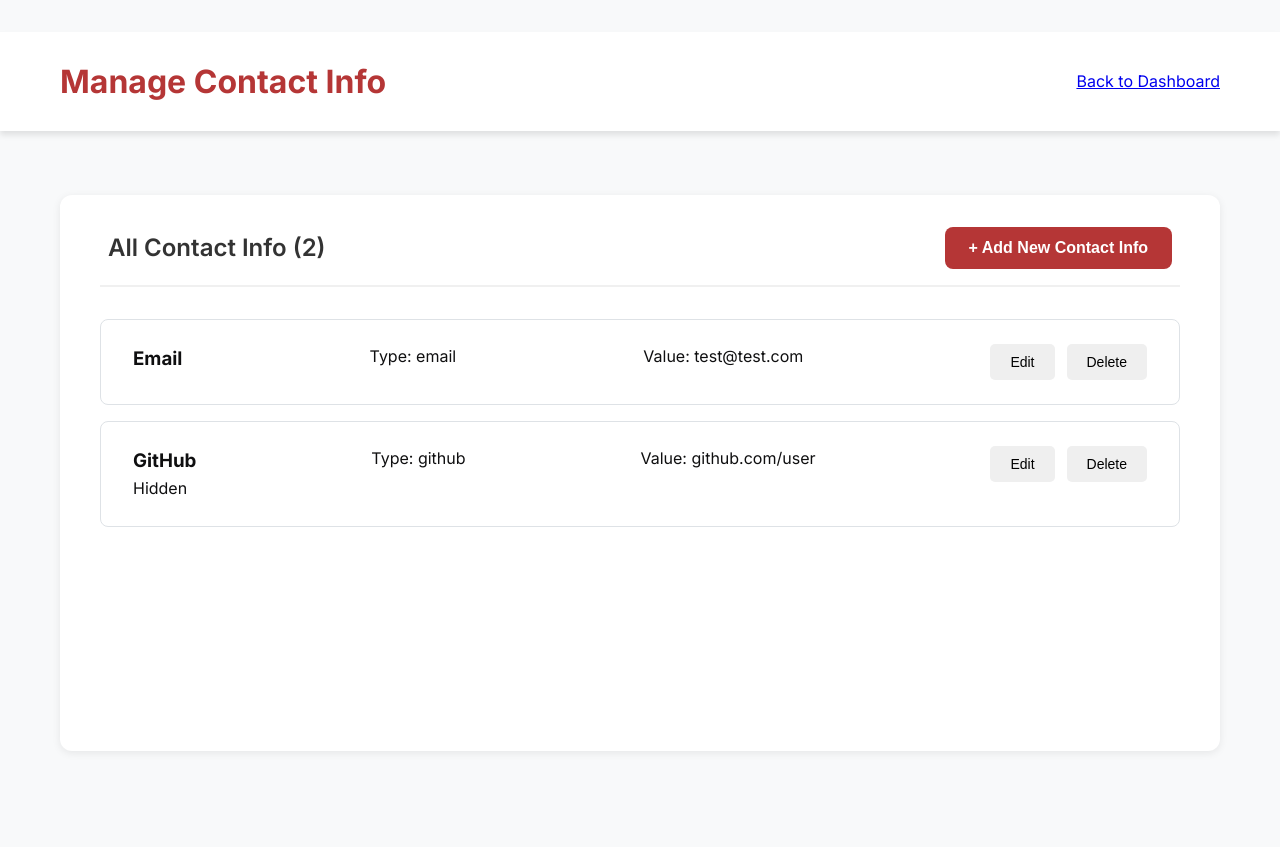
Test: AdminContactInfo › handles error
Click the button "+ Add New Contact Info": {"x": 1058, "y": 248} [945,227,1172,269]
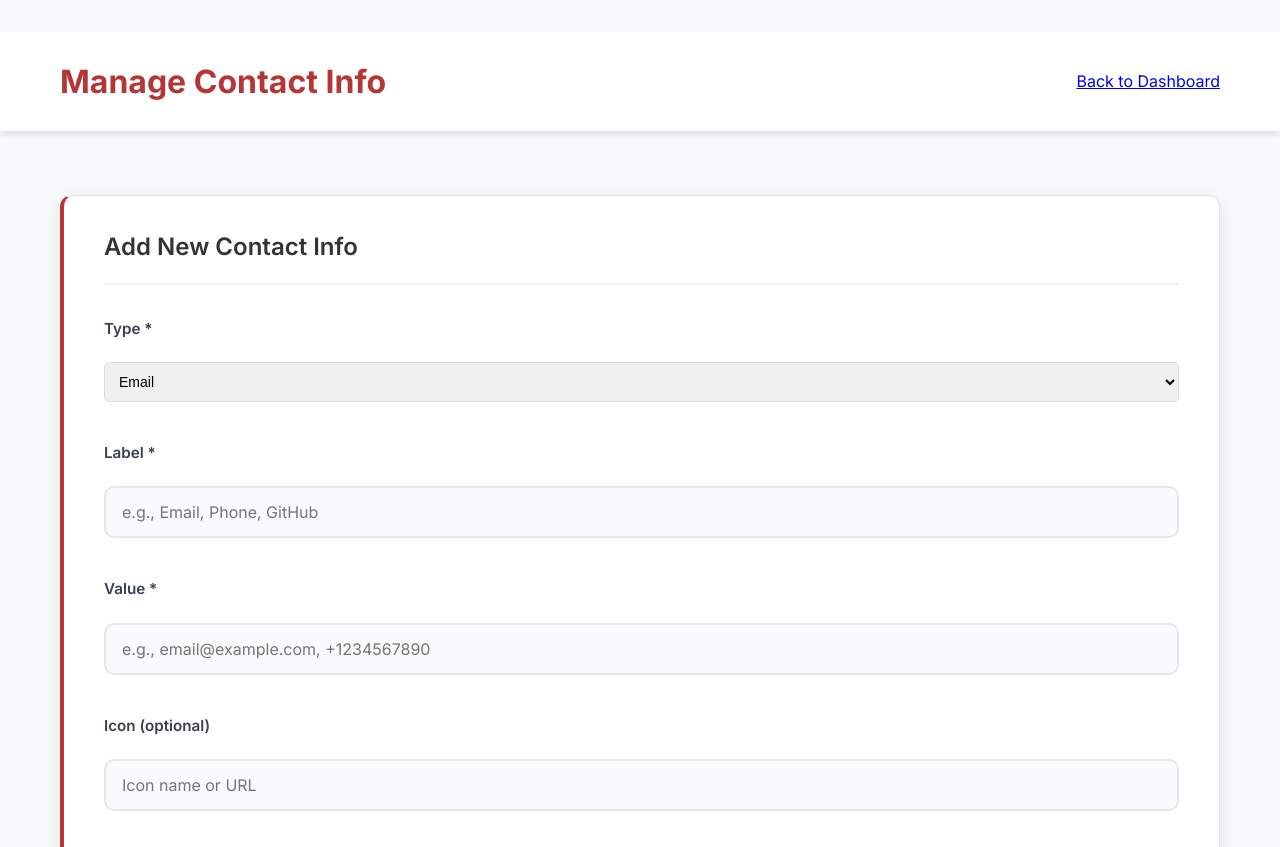
In the field labelled "Label *": {"x": 642, "y": 512} [104,486,1179,538], type "X"
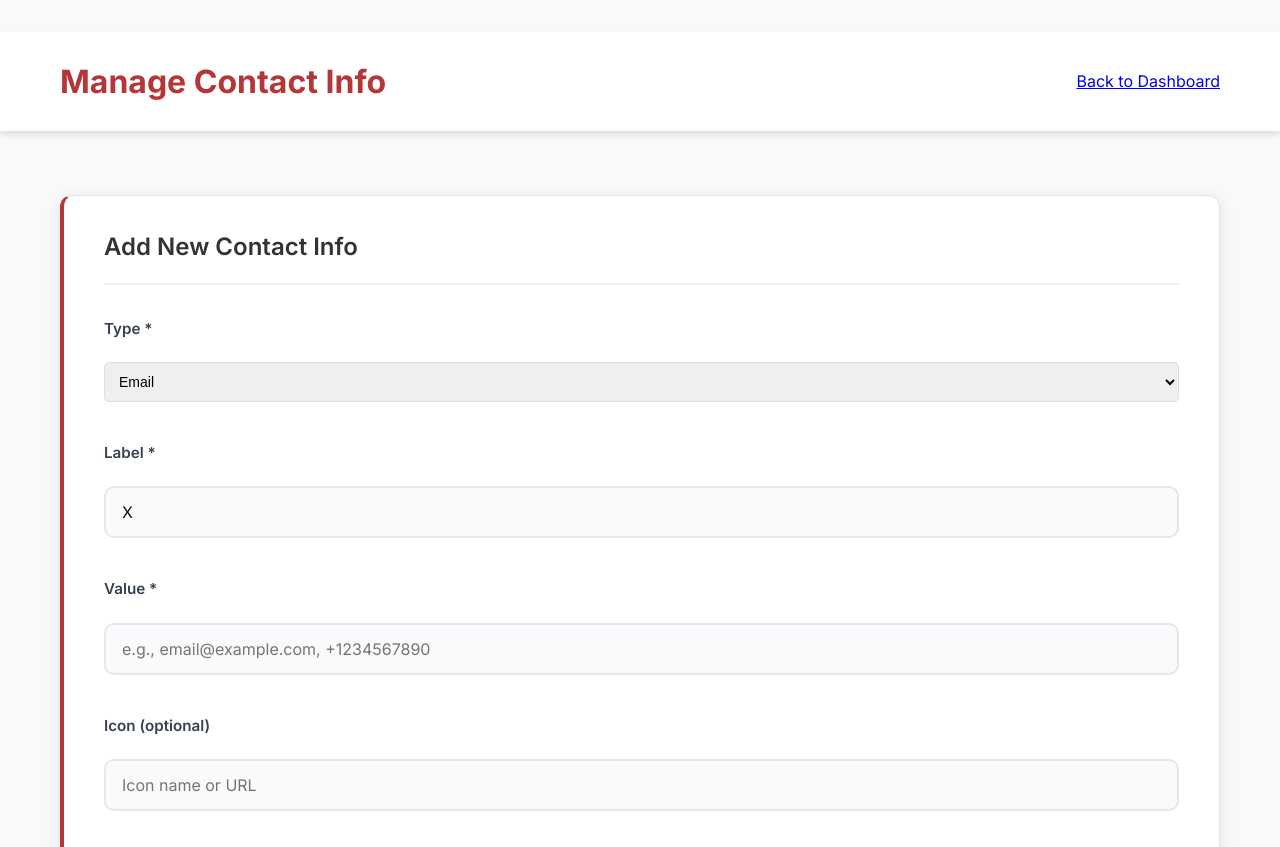
In the field labelled "Value *": {"x": 642, "y": 648} [104,622,1179,674], type "X"
(page scrolled)
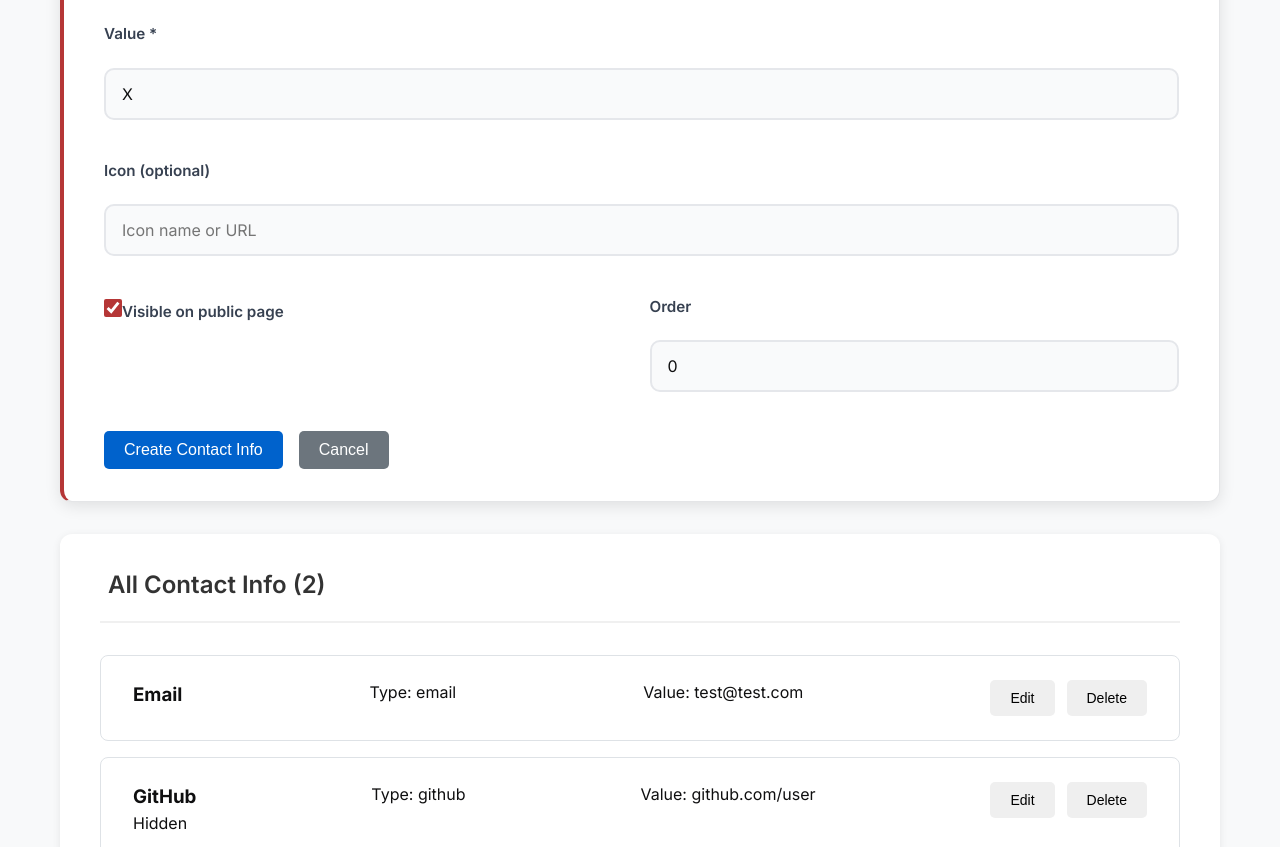
Click the button "Create Contact Info": {"x": 193, "y": 450} [104,431,283,469]
(page scrolled)
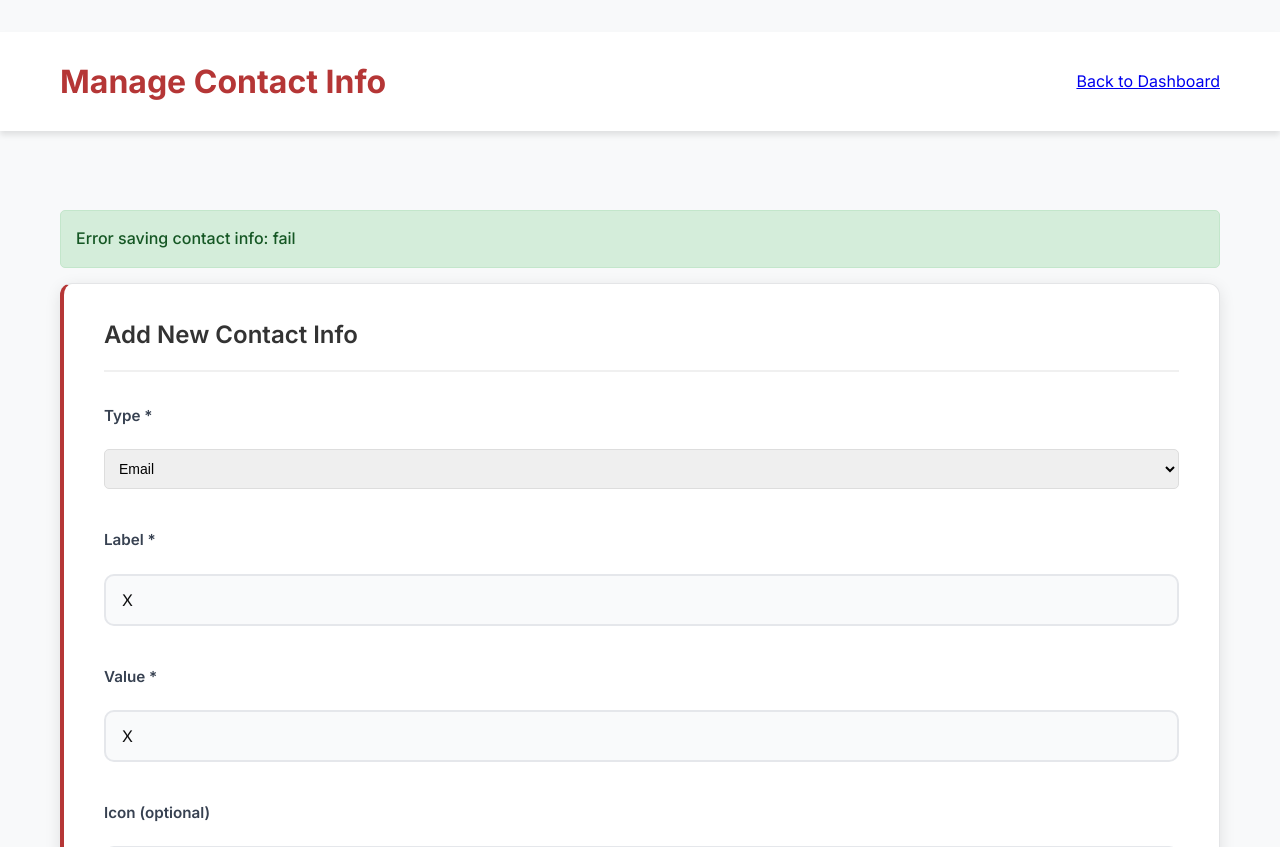
Result: the text "Error saving contact info: fail" is shown at [60,210,1220,268]
